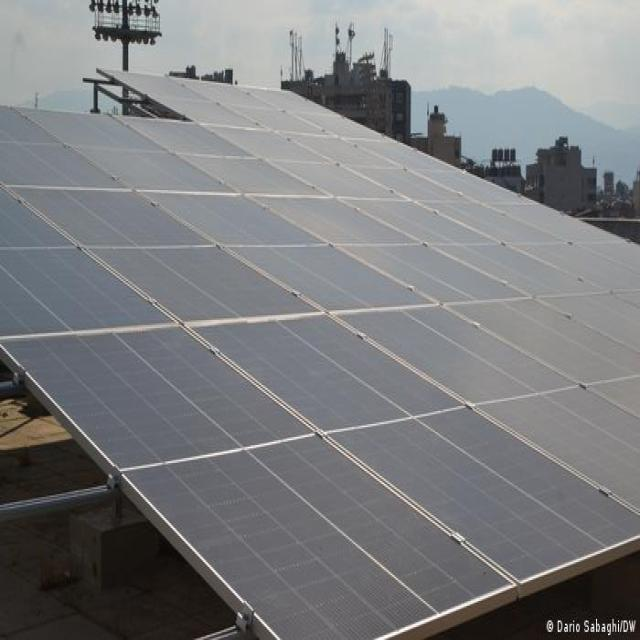dust-solar-panel: (0, 73, 640, 635)
